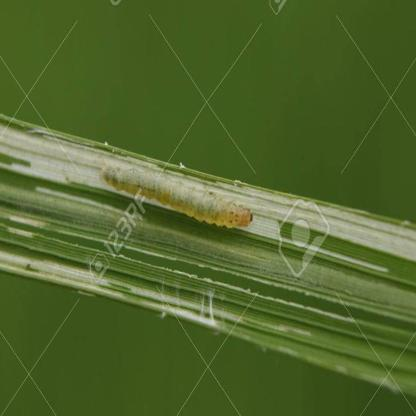leaf-folder: (87, 131, 258, 242)
